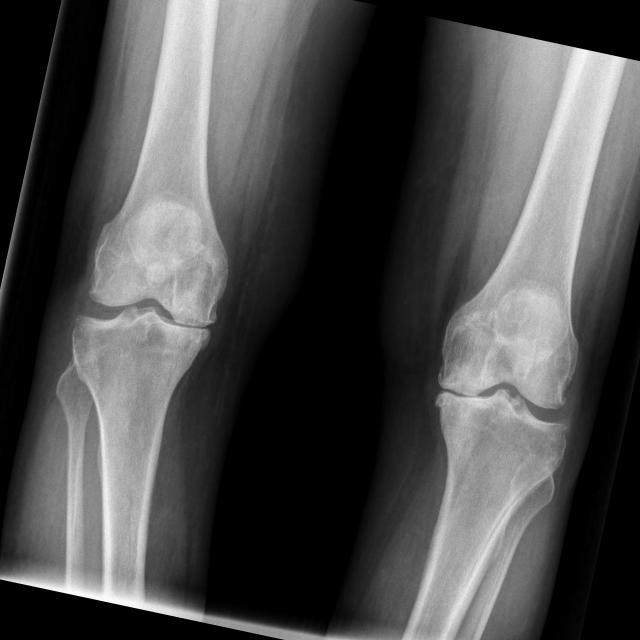Knee: (61, 222, 231, 395), (415, 310, 587, 476)
